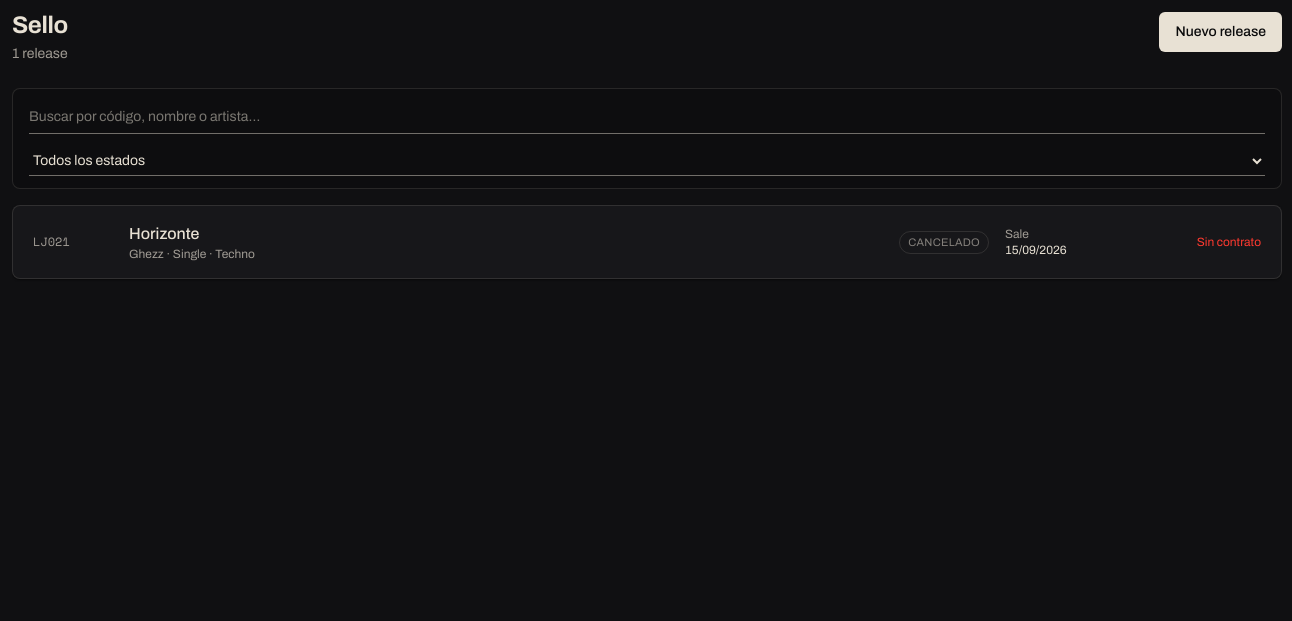
Test: la regla del módulo › avisa que un release cancelado no se reabre
This screenshot has width=1292, height=621.
What coordinates should you click on to do the following:
click the text "Horizonte"
I would click on:
 (164, 234)
Its box is top-left (129, 225), bottom-right (199, 242).
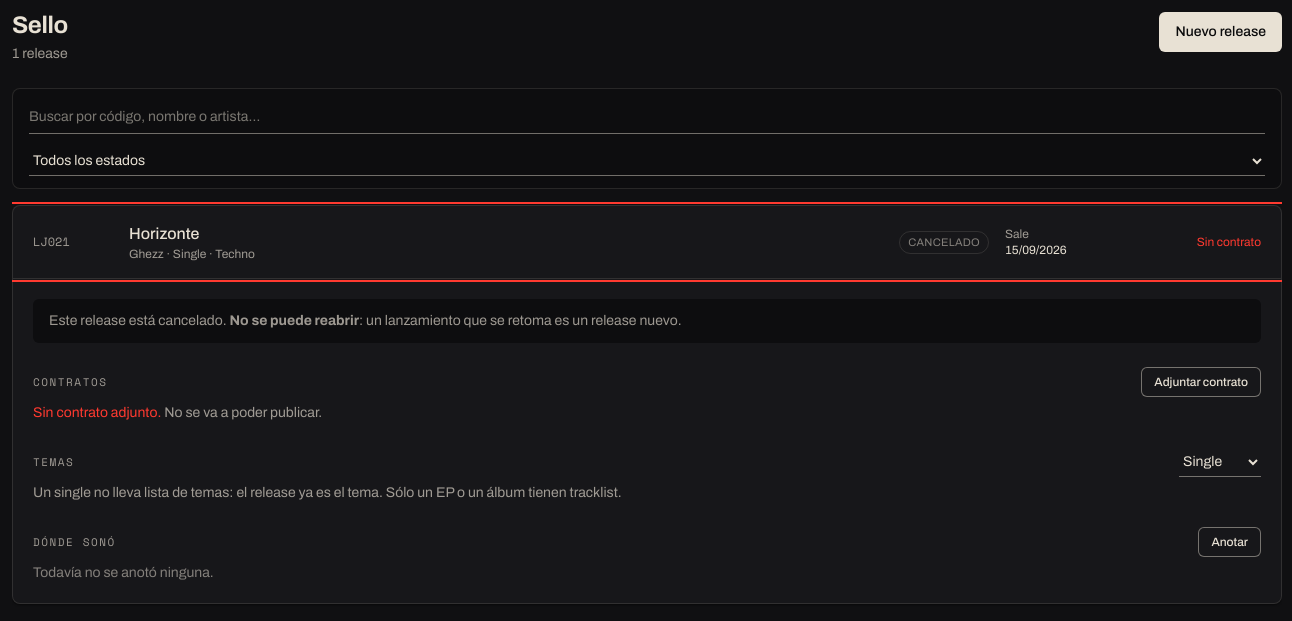
Check: the text "No se puede reabrir" is shown, box top-left (230, 313), bottom-right (359, 328)
